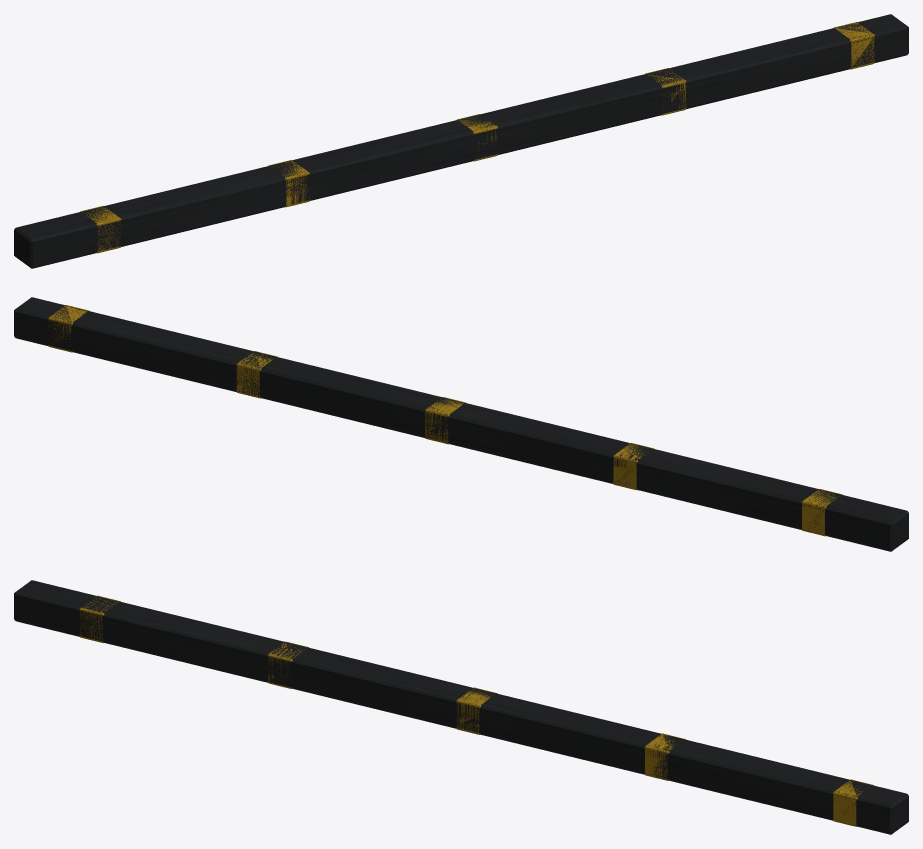
File: RailPointBlade.fbx
The picture shows the model from 3 angles, top to bottom: view 1: azimuth 30°, elevation 25°; view 2: azimuth 150°, elevation 25°; view 3: azimuth 330°, elevation 25°; orthographic projection.
Visible parts, largest first — view 1: RailPointBlade.001; view 2: RailPointBlade.001; view 3: RailPointBlade.001.
Boxes of the visible parts, x1,y1,x2,y2 form: RailPointBlade.001: (14, 14, 908, 268); RailPointBlade.001: (14, 297, 908, 551); RailPointBlade.001: (14, 580, 908, 834).
Size of the model in its own units: 2.8 by 0.09 by 0.1.
